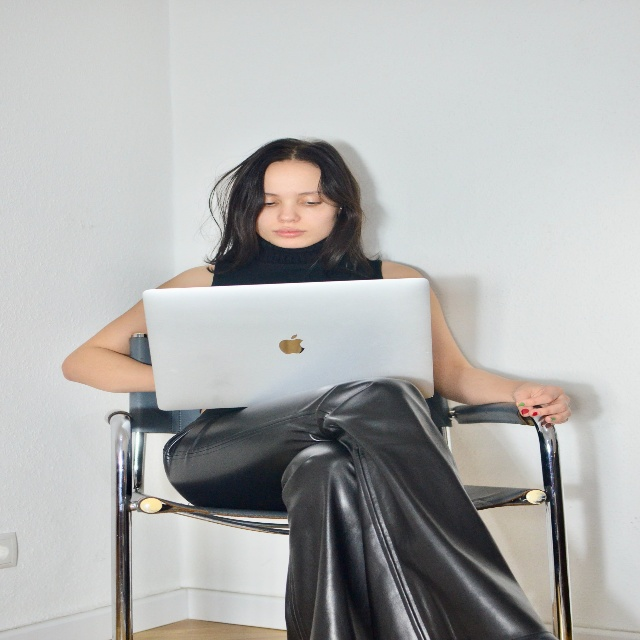Sin_guantes: (512, 381, 572, 425)
